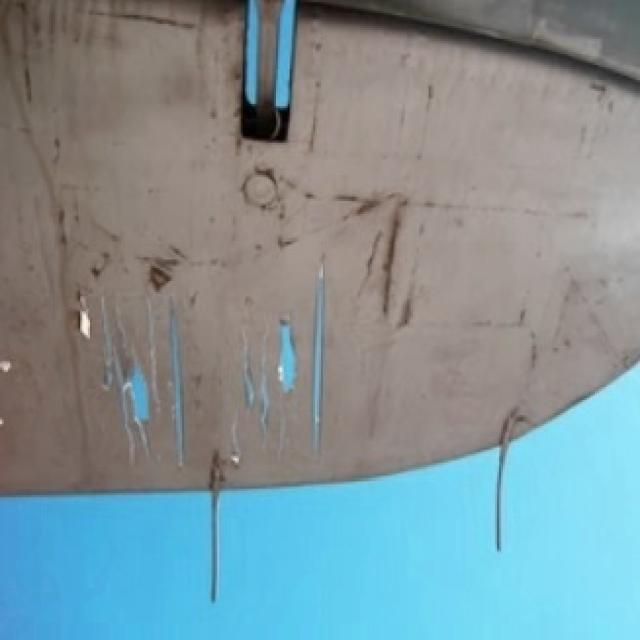crack: (87, 243, 338, 475)
